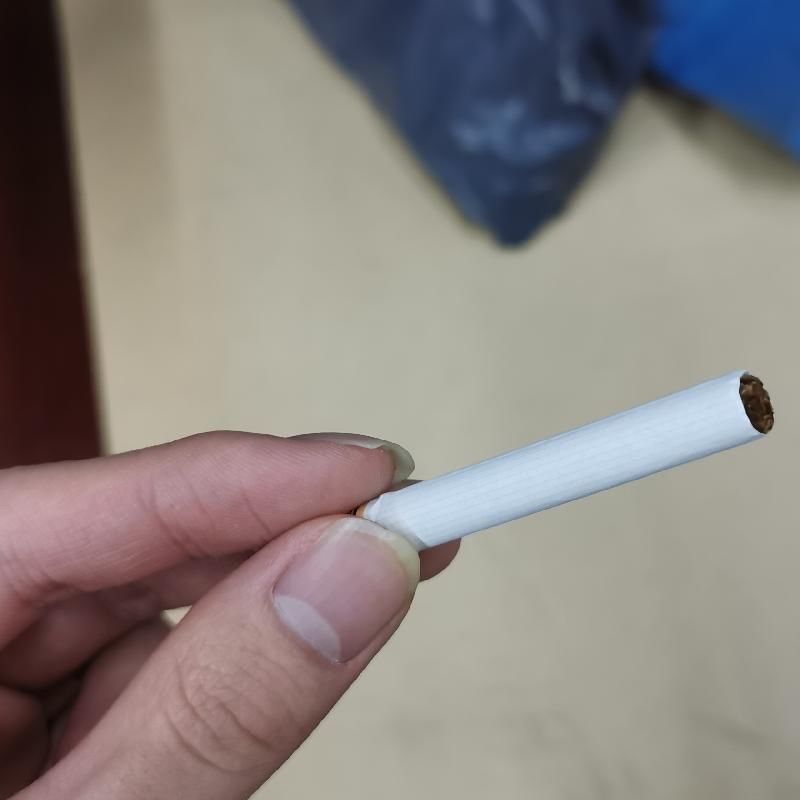cigarette: (337, 370, 783, 547)
